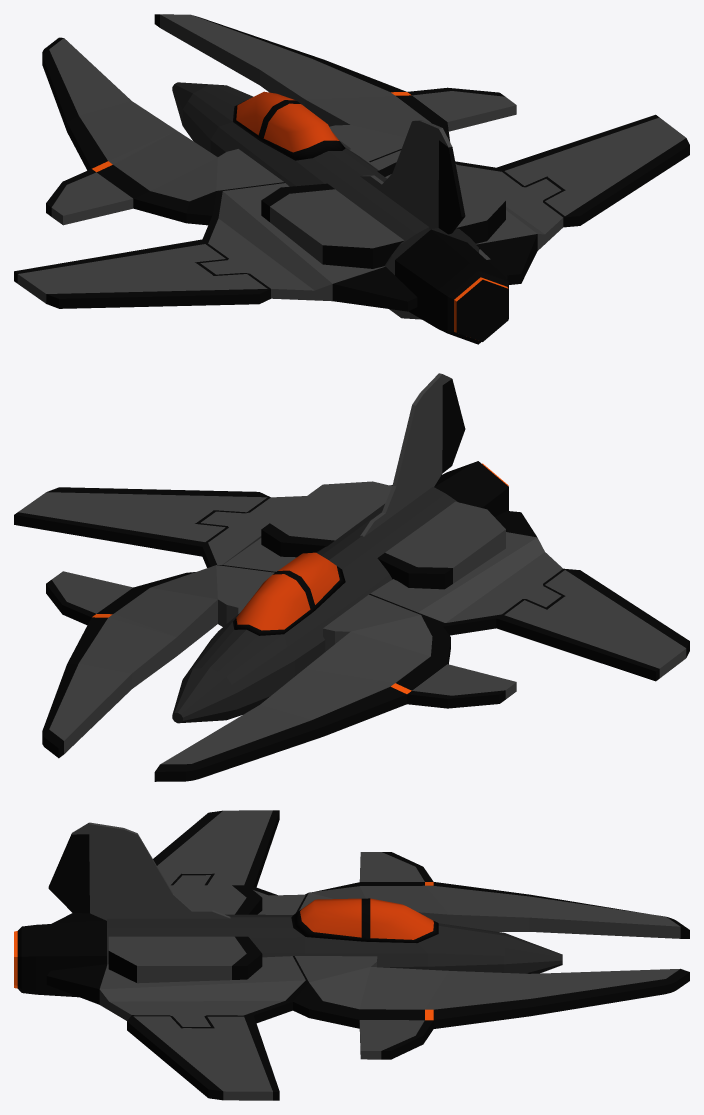
Rendered from player.obj.
3 views of the same model, one above another, from view 1: azimuth 30°, elevation 25°; view 2: azimuth 150°, elevation 25°; view 3: azimuth 270°, elevation 25° (orthographic). The views are drawn at different scales.
Visible parts, largest first — view 1: Cube.002, Cylinder, Cube.001, Cylinder.001, Cube, Cylinder.002; view 2: Cube.002, Cylinder, Cube.001, Cube, Cylinder.002, Cylinder.001; view 3: Cube.002, Cylinder, Cube, Cube.001, Cylinder.002, Cylinder.001.
Boxes of the visible parts, left/top/right/bottom form: Cube.002: left=14, top=14, right=689, bottom=311; Cylinder: left=172, top=82, right=478, bottom=319; Cube.001: left=261, top=162, right=505, bottom=268; Cylinder.001: left=395, top=229, right=508, bottom=344; Cube: left=360, top=120, right=465, bottom=234; Cylinder.002: left=233, top=91, right=345, bottom=160; Cube.002: left=14, top=485, right=689, bottom=781; Cylinder: left=172, top=487, right=457, bottom=723; Cube.001: left=261, top=481, right=505, bottom=589; Cube: left=360, top=373, right=465, bottom=536; Cylinder.002: left=233, top=552, right=345, bottom=635; Cylinder.001: left=434, top=461, right=508, bottom=516; Cube.002: left=46, top=810, right=689, bottom=1100; Cylinder: left=107, top=914, right=562, bottom=973; Cube: left=48, top=822, right=230, bottom=920; Cube.001: left=108, top=885, right=262, bottom=983; Cylinder.002: left=291, top=898, right=438, bottom=942; Cylinder.001: left=14, top=920, right=106, bottom=997.
Size of the model in its own units: 4.14 by 1.23 by 4.2.
